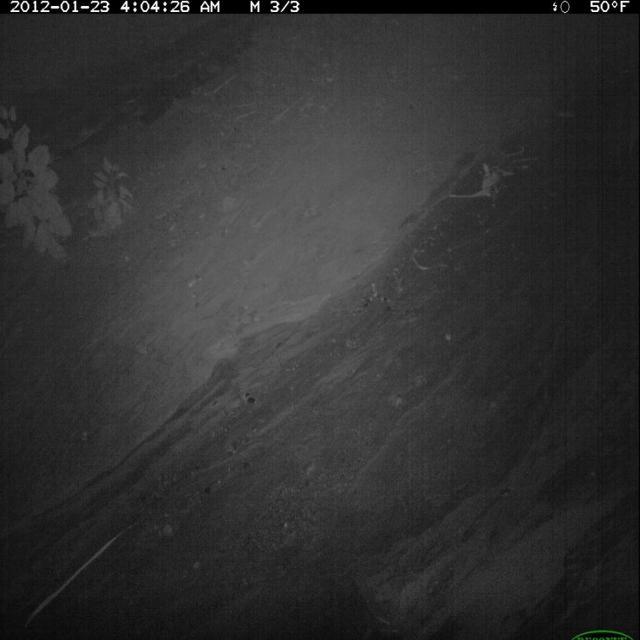raccoon: (2, 1, 640, 640)
